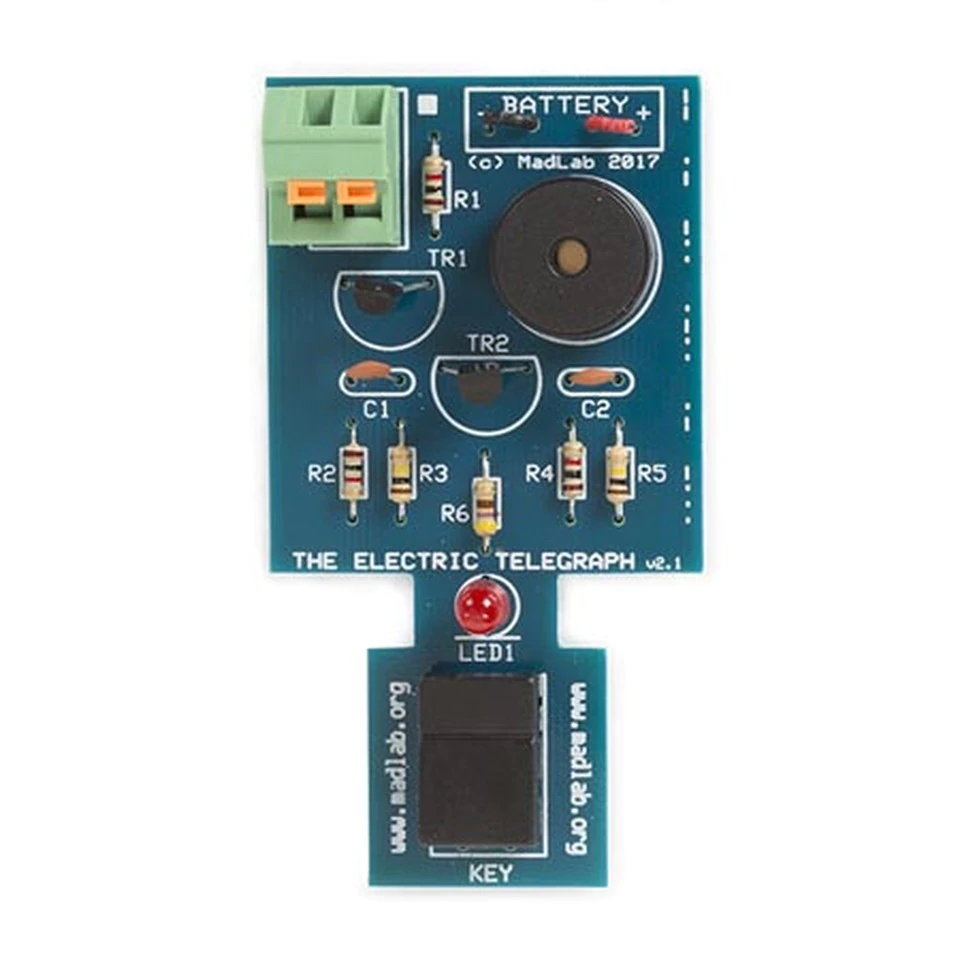LED: (454, 576, 510, 637)
Resistor: (603, 441, 634, 511), (470, 474, 501, 542), (557, 438, 586, 505), (421, 151, 450, 218), (386, 443, 416, 505), (339, 443, 366, 501)
